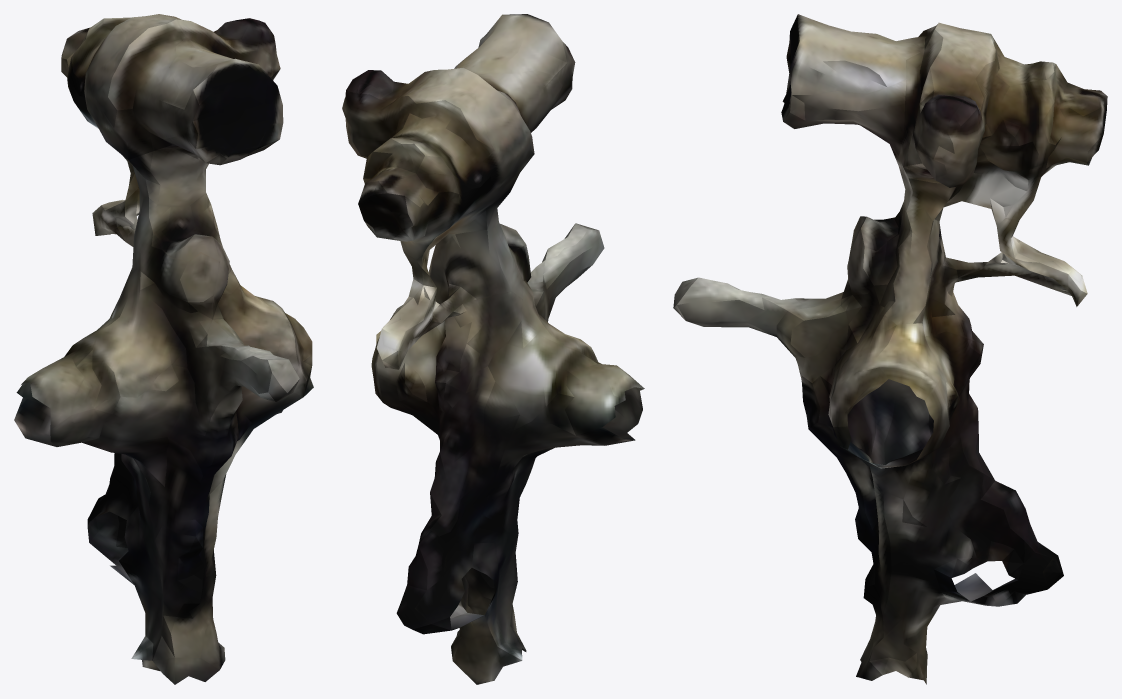
File: carriage.glb
3 renders of one model, left to right at view 1: azimuth 30°, elevation 25°; view 2: azimuth 150°, elevation 25°; view 3: azimuth 270°, elevation 25°, orthographic. The views are drawn at different scales.
Visible parts, largest first — view 1: mount; view 2: mount; view 3: mount.
Part boxes in pixels (left/top/right/bottom): mount: left=14, top=14, right=313, bottom=684; mount: left=342, top=14, right=644, bottom=684; mount: left=673, top=14, right=1107, bottom=684.
Bounding box in the file's own units: 0.0731 × 0.1636 × 0.0964.
1 material, 1 textured.
